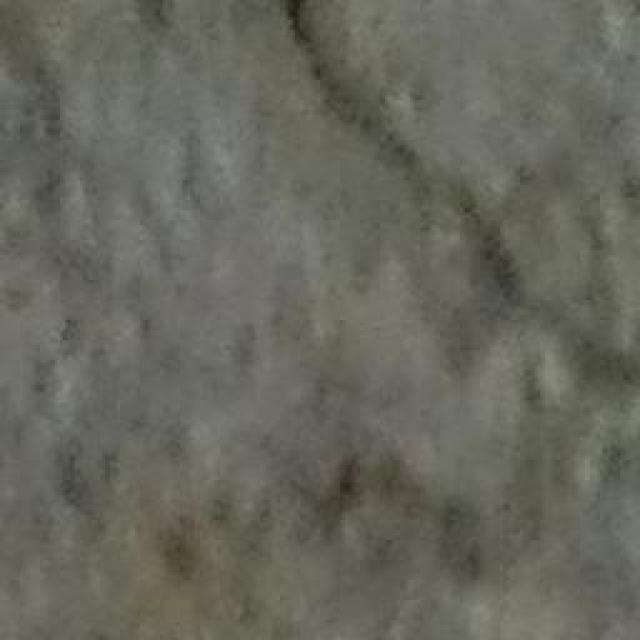Diagonal: (275, 0, 640, 435)
